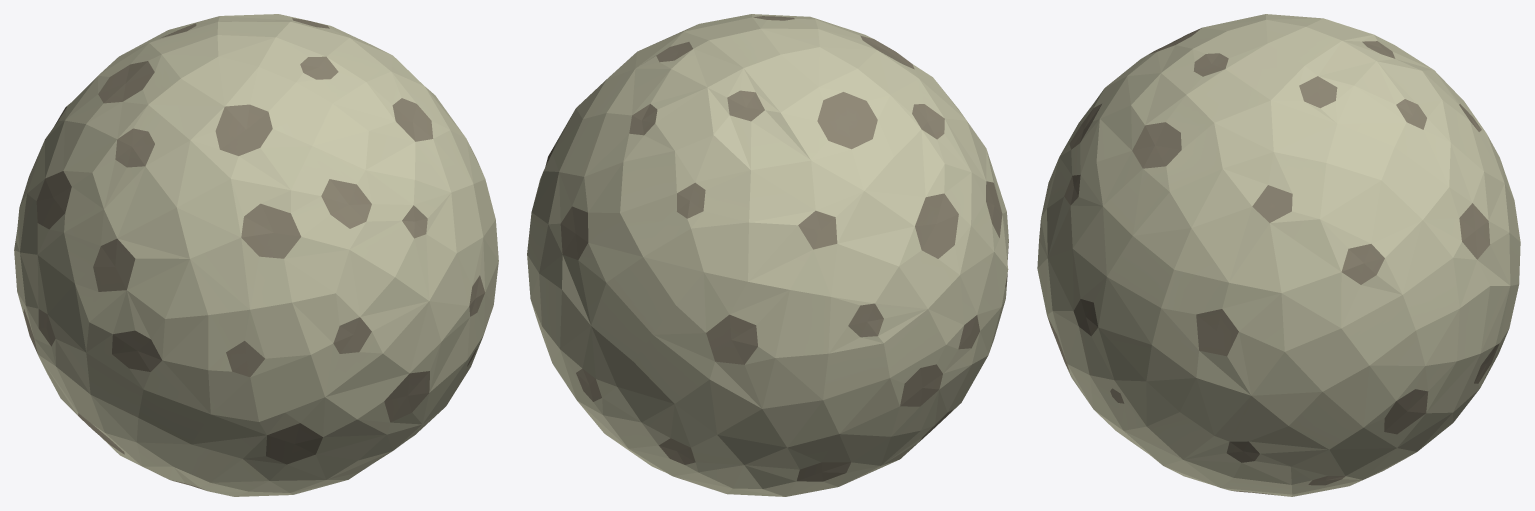
The model's file is mercury.glb.
3 views of the same model, side by side, from view 1: azimuth 30°, elevation 25°; view 2: azimuth 150°, elevation 25°; view 3: azimuth 270°, elevation 25° (orthographic).
Visible parts, largest first — view 1: huitugou_2145_06; view 2: huitugou_2145_06; view 3: huitugou_2145_06.
Part boxes in pixels (left/top/right/bottom): huitugou_2145_06: left=14, top=14, right=498, bottom=496; huitugou_2145_06: left=527, top=14, right=1008, bottom=496; huitugou_2145_06: left=1037, top=14, right=1520, bottom=496.
Size of the model in its own units: 1.11 by 1.11 by 1.12.
1 material, 1 textured.
